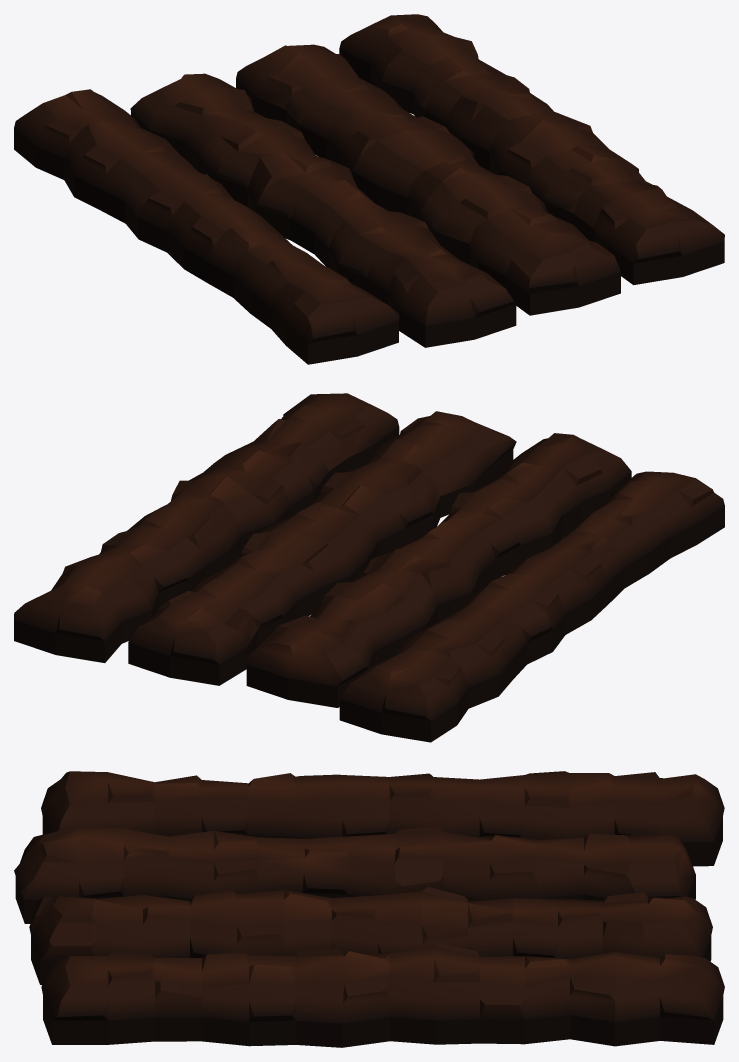
The model's file is Crop_1.fbx.
3 views of the same model, one above another, from view 1: azimuth 30°, elevation 25°; view 2: azimuth 150°, elevation 25°; view 3: azimuth 270°, elevation 25° (orthographic). The views are drawn at different scales.
Parts seen in each view (by area): view 1: Crop_1; view 2: Crop_1; view 3: Crop_1.
Part boxes in pixels (x1,y1,x2,y2): Crop_1: [14, 14, 724, 364]; Crop_1: [14, 393, 724, 742]; Crop_1: [14, 771, 724, 1047].
Size of the model in its own units: 914 by 121 by 1174.
